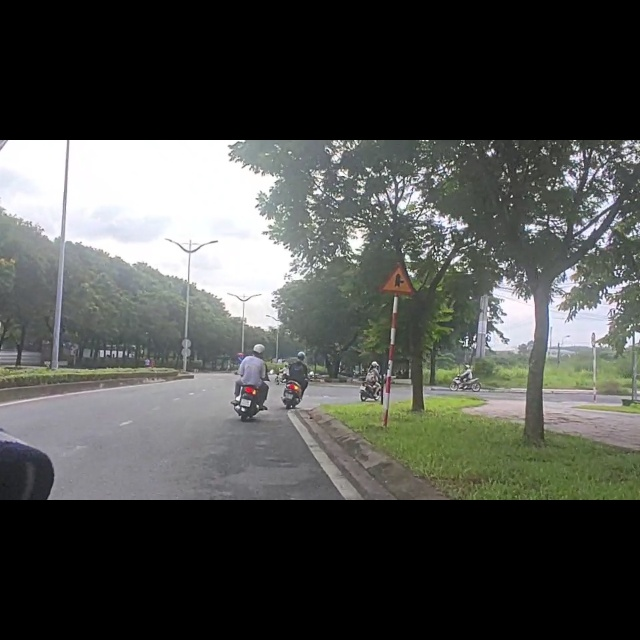Giao nhau với đường không ưu tiên: (378, 262, 415, 295)
